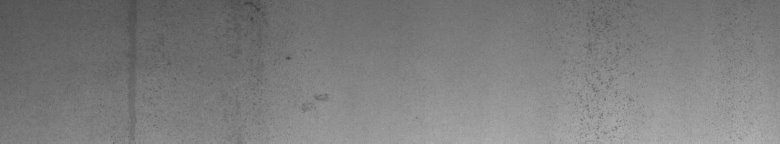ib: (580, 18, 638, 135)
